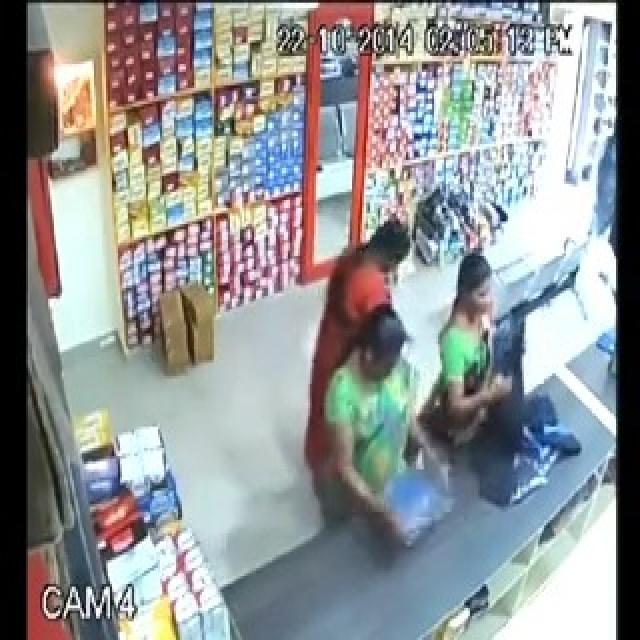normal: (434, 235, 598, 514), (319, 312, 468, 592), (318, 166, 417, 437)
